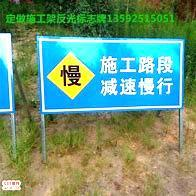sign: (38, 36, 183, 110)
